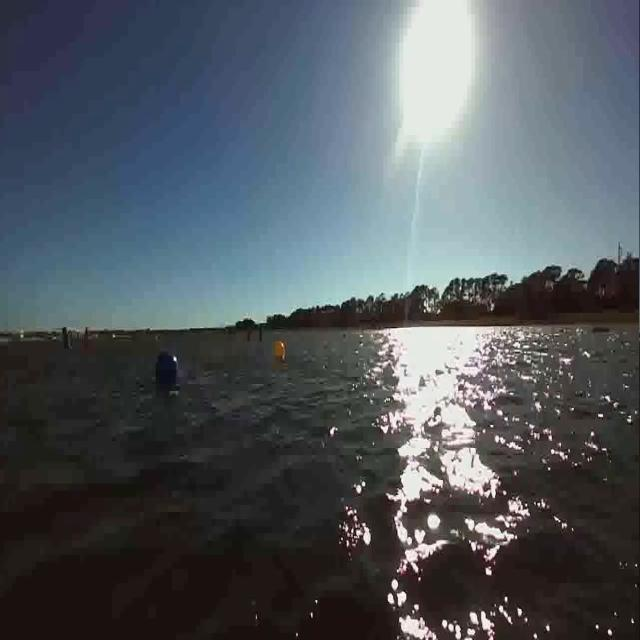blue-buoy: (156, 350, 180, 386)
yellow-buoy: (275, 339, 287, 359)
